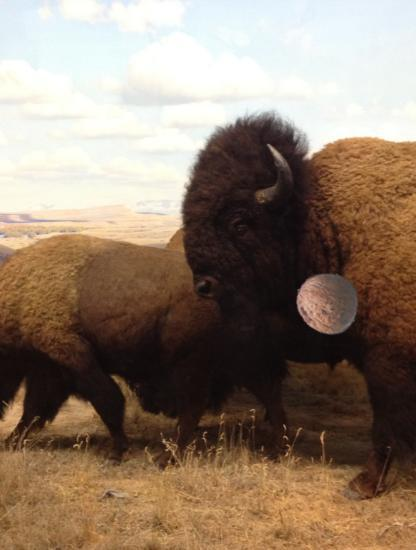Walnut: (295, 270, 361, 336)
